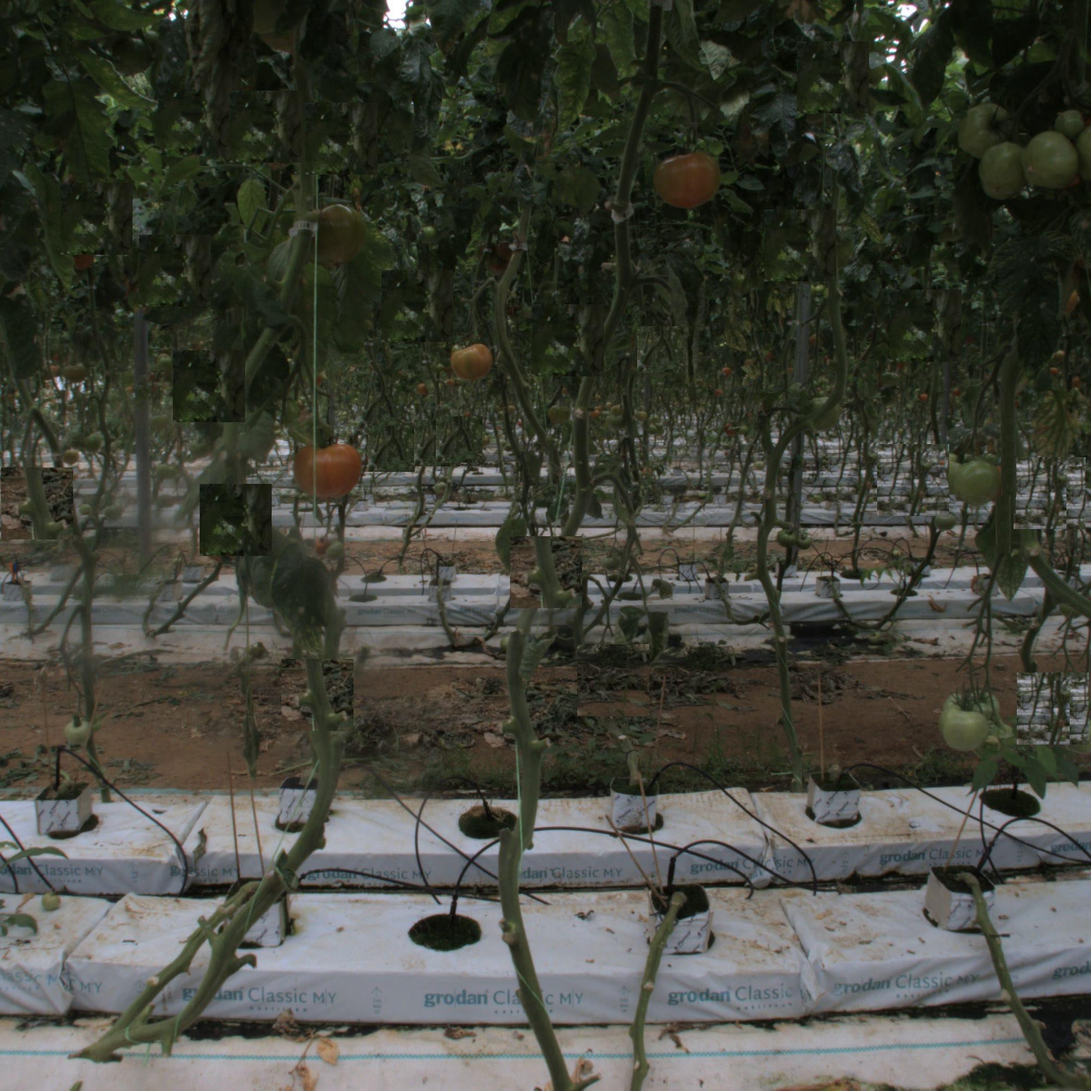fully-ripe: (295, 432, 360, 497)
semi-ripe: (656, 144, 721, 209), (452, 340, 491, 380)
unripe: (302, 200, 367, 266), (978, 142, 1034, 199), (959, 103, 1016, 159), (1025, 134, 1082, 190), (955, 458, 1003, 506), (942, 704, 990, 752)
